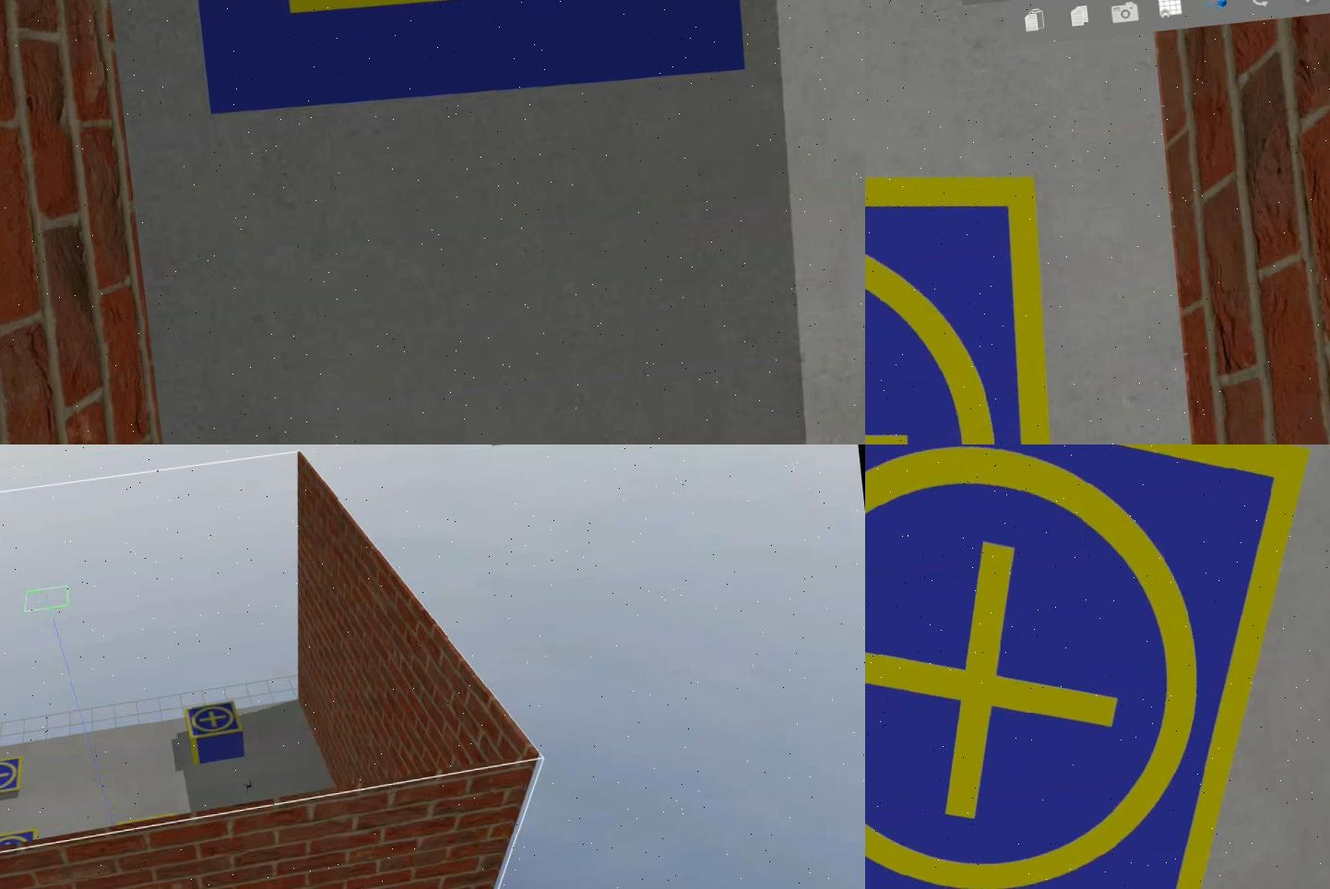large_base: (176, 1, 754, 132)
small_base: (864, 445, 1328, 889), (864, 122, 1097, 445), (180, 698, 242, 742), (0, 753, 27, 802), (0, 827, 37, 852)
